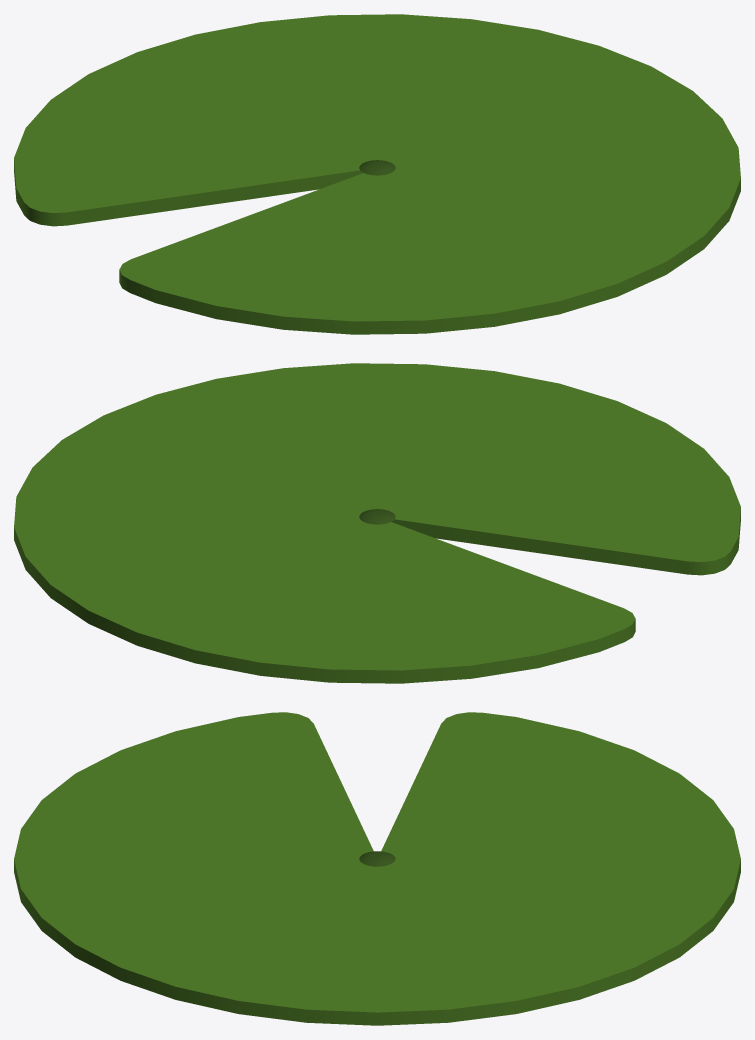
File: lilypad.fbx
The picture shows the model from 3 angles, top to bottom: view 1: azimuth 30°, elevation 25°; view 2: azimuth 150°, elevation 25°; view 3: azimuth 270°, elevation 25°; orthographic projection.
Parts seen in each view (by area): view 1: Cylinder; view 2: Cylinder; view 3: Cylinder.
Boxes of the visible parts, left/top/right/bottom form: Cylinder: left=14, top=14, right=740, bottom=334; Cylinder: left=14, top=363, right=740, bottom=683; Cylinder: left=14, top=712, right=740, bottom=1025.
Size of the model in its own units: 196 by 5 by 200.
